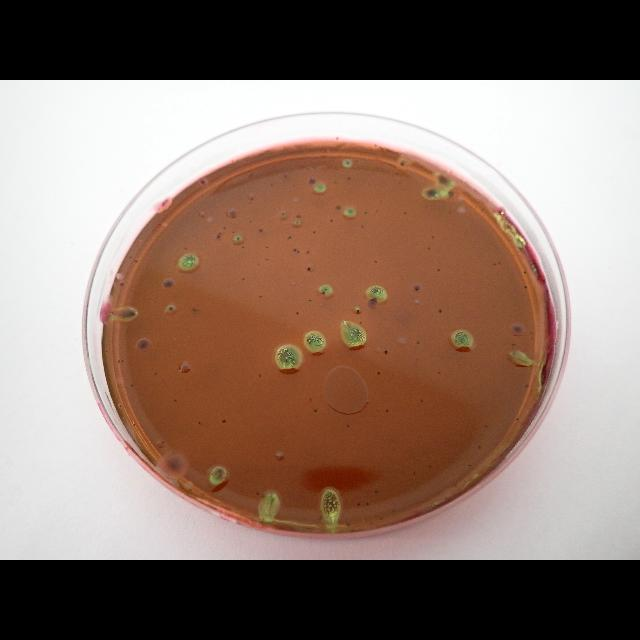colony: (275, 344, 303, 372), (340, 320, 366, 348), (302, 329, 328, 353), (450, 328, 474, 349), (177, 253, 200, 271), (208, 466, 228, 486), (365, 285, 387, 303), (318, 284, 334, 296), (162, 278, 174, 288), (344, 207, 356, 217), (314, 183, 326, 193), (367, 299, 378, 309), (427, 188, 437, 198), (438, 175, 448, 185), (139, 341, 147, 349), (447, 190, 455, 198), (308, 178, 316, 185), (400, 160, 408, 167), (413, 284, 421, 290), (514, 326, 522, 332), (230, 210, 237, 216), (336, 204, 340, 210), (438, 308, 442, 314), (200, 180, 206, 184), (356, 308, 359, 314), (330, 218, 334, 222), (364, 211, 368, 215), (259, 228, 263, 232), (307, 267, 311, 271), (293, 248, 297, 252), (296, 214, 300, 218), (217, 235, 221, 239), (154, 372, 158, 376), (256, 492, 260, 496), (308, 298, 312, 302), (313, 409, 317, 413), (346, 522, 350, 526), (428, 464, 432, 468), (478, 445, 482, 449), (484, 424, 488, 428), (524, 285, 528, 289), (284, 174, 288, 178), (384, 350, 388, 354), (135, 259, 139, 263), (306, 250, 310, 253), (296, 250, 300, 253), (282, 212, 286, 215), (237, 237, 240, 241), (386, 409, 389, 413), (346, 424, 349, 428), (366, 502, 369, 506), (374, 491, 378, 494), (436, 268, 439, 272), (381, 516, 384, 520), (122, 282, 125, 286), (416, 341, 419, 344), (375, 260, 377, 264), (258, 262, 260, 266), (170, 307, 172, 311), (222, 420, 226, 422), (199, 421, 201, 425), (262, 493, 264, 497), (259, 373, 261, 377), (438, 371, 440, 375), (358, 502, 360, 506), (414, 471, 416, 475), (468, 464, 472, 466), (516, 418, 520, 420), (512, 344, 516, 346), (524, 270, 526, 274), (494, 262, 496, 266), (348, 176, 350, 180), (270, 184, 274, 186), (241, 278, 245, 280), (392, 510, 396, 512), (374, 514, 378, 516), (370, 522, 372, 526), (378, 371, 380, 375), (130, 384, 134, 386), (334, 180, 336, 183), (224, 227, 226, 230), (376, 410, 379, 412), (428, 247, 430, 250), (250, 220, 252, 223), (362, 226, 364, 228), (289, 236, 291, 238), (313, 231, 315, 233), (266, 258, 268, 260), (266, 246, 268, 248), (242, 246, 244, 248), (219, 232, 221, 234), (232, 231, 234, 233), (185, 247, 187, 249), (118, 360, 120, 362), (121, 360, 123, 362), (174, 399, 176, 401), (360, 322, 362, 324), (296, 312, 298, 314), (421, 400, 423, 402), (309, 398, 311, 400), (432, 236, 434, 238), (404, 212, 406, 214), (260, 296, 262, 298), (130, 256, 132, 258), (196, 236, 198, 238)
